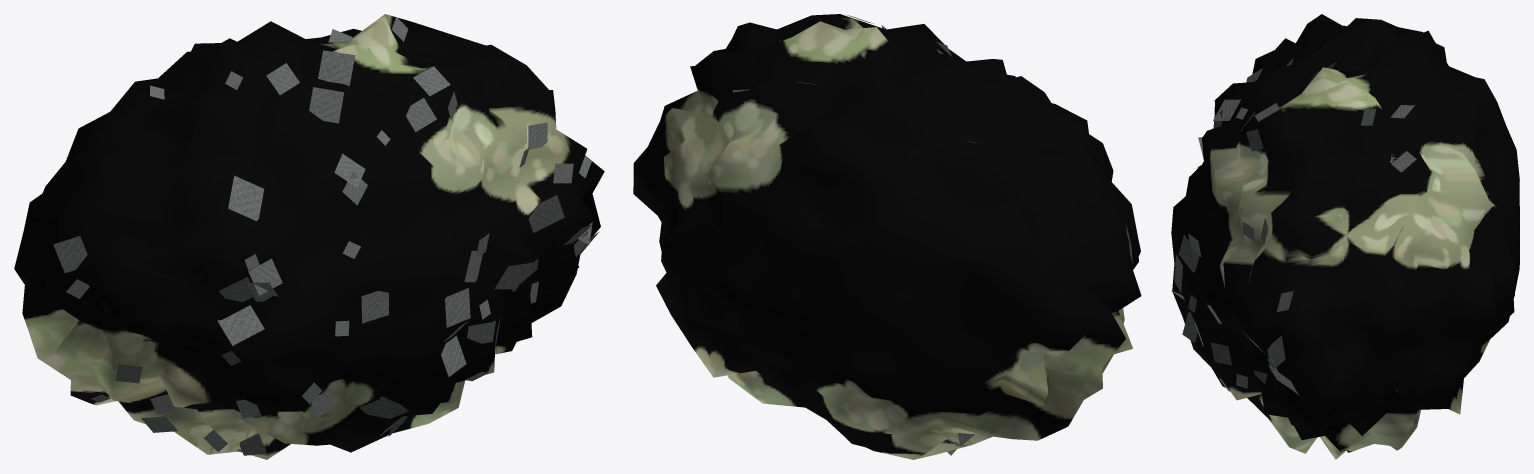
Rendered from PZ_ALP_10_Lichen_Covered_Boulder.glb.
3 views of the same model, side by side, from view 1: azimuth 30°, elevation 25°; view 2: azimuth 150°, elevation 25°; view 3: azimuth 270°, elevation 25° (orthographic). The views are drawn at different scales.
Parts seen in each view (by area): view 1: RockBody_WatertightFaceted, Lichen_FacadePatches_AlphaMasked; view 2: RockBody_WatertightFaceted, Lichen_FacadePatches_AlphaMasked; view 3: RockBody_WatertightFaceted, Lichen_FacadePatches_AlphaMasked.
Part boxes in pixels (x1,y1,x2,y2): RockBody_WatertightFaceted: (14,14,604,459); Lichen_FacadePatches_AlphaMasked: (53,17,599,455); RockBody_WatertightFaceted: (633,14,1141,459); Lichen_FacadePatches_AlphaMasked: (732,15,1132,455); RockBody_WatertightFaceted: (1171,14,1519,459); Lichen_FacadePatches_AlphaMasked: (1171,42,1416,395).
Bounding box in the file's own units: 2.36 × 1.72 × 1.47.
Materials: 2 (2 with a texture image).
